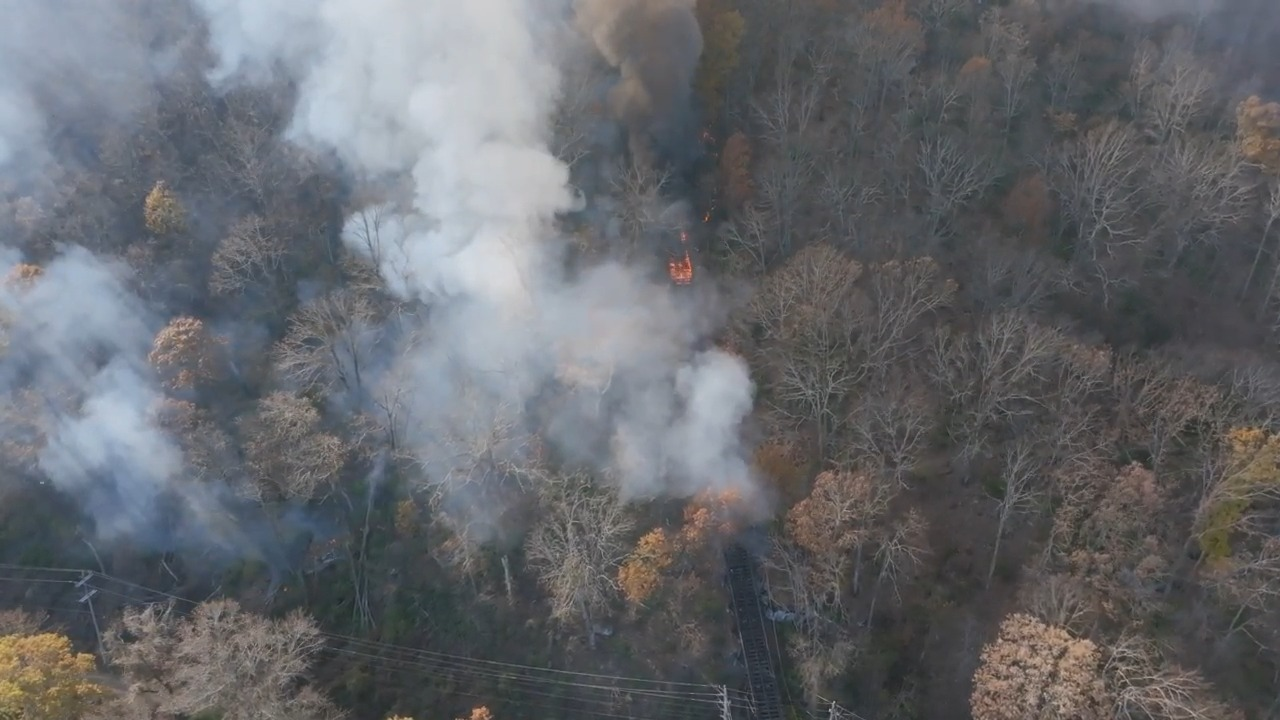fire: (668, 228, 694, 285), (668, 249, 693, 284), (700, 129, 714, 144), (702, 210, 712, 222)
smoke: (201, 0, 755, 525), (0, 246, 257, 554), (0, 0, 193, 179), (575, 0, 702, 157)
